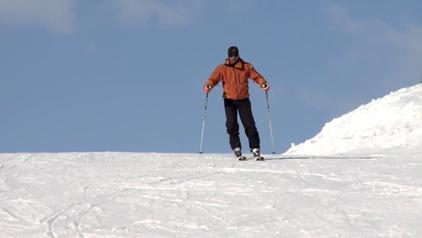walk: (209, 53, 264, 142)
